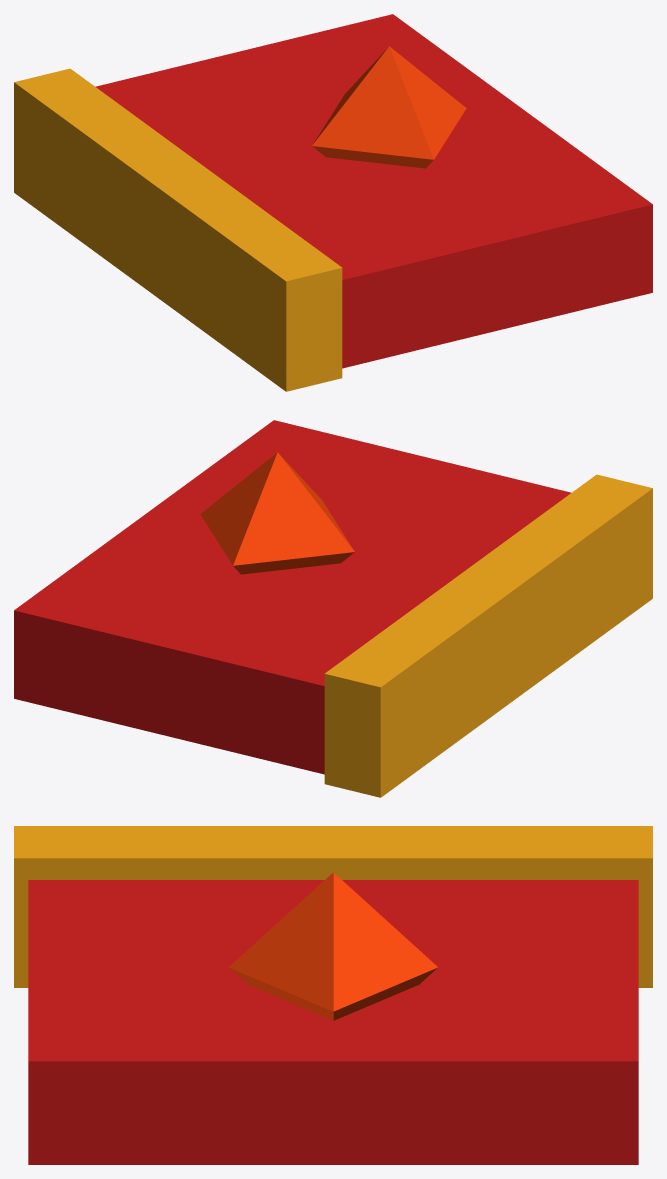
File: fireball_spellbook.obj
3 renders of one model, top to bottom at view 1: azimuth 30°, elevation 25°; view 2: azimuth 150°, elevation 25°; view 3: azimuth 270°, elevation 25°, orthographic. The views are drawn at different scales.
Visible parts, largest first — view 1: models/items/fireball_spellbook.obj; view 2: models/items/fireball_spellbook.obj; view 3: models/items/fireball_spellbook.obj.
Boxes of the visible parts, bbox=[...] form: models/items/fireball_spellbook.obj: bbox=[14, 14, 652, 391]; models/items/fireball_spellbook.obj: bbox=[14, 420, 652, 797]; models/items/fireball_spellbook.obj: bbox=[14, 826, 652, 1164].
Bounding box in the file's own units: 1.06 × 0.51 × 1.34.
